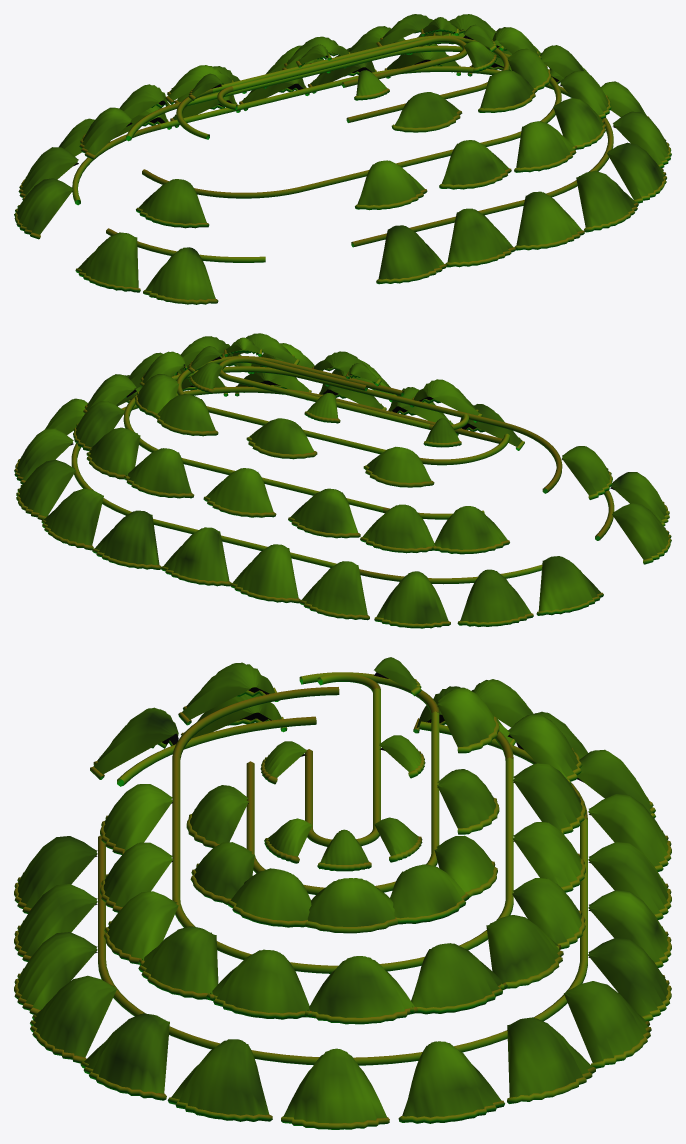
Rendered from shrine_roof_fan.glb.
3 renders of one model, top to bottom at view 1: azimuth 30°, elevation 25°; view 2: azimuth 150°, elevation 25°; view 3: azimuth 270°, elevation 25°, orthographic. The views are drawn at different scales.
Visible parts, largest first — view 1: shrine_roof_fan; view 2: shrine_roof_fan; view 3: shrine_roof_fan.
Boxes of the visible parts, x1,y1,x2,y2 form: shrine_roof_fan: [14, 14, 671, 304]; shrine_roof_fan: [14, 333, 671, 628]; shrine_roof_fan: [14, 657, 671, 1129].
Size of what is drawn, in the model's own units: 29.72 by 6.37 by 20.14.
